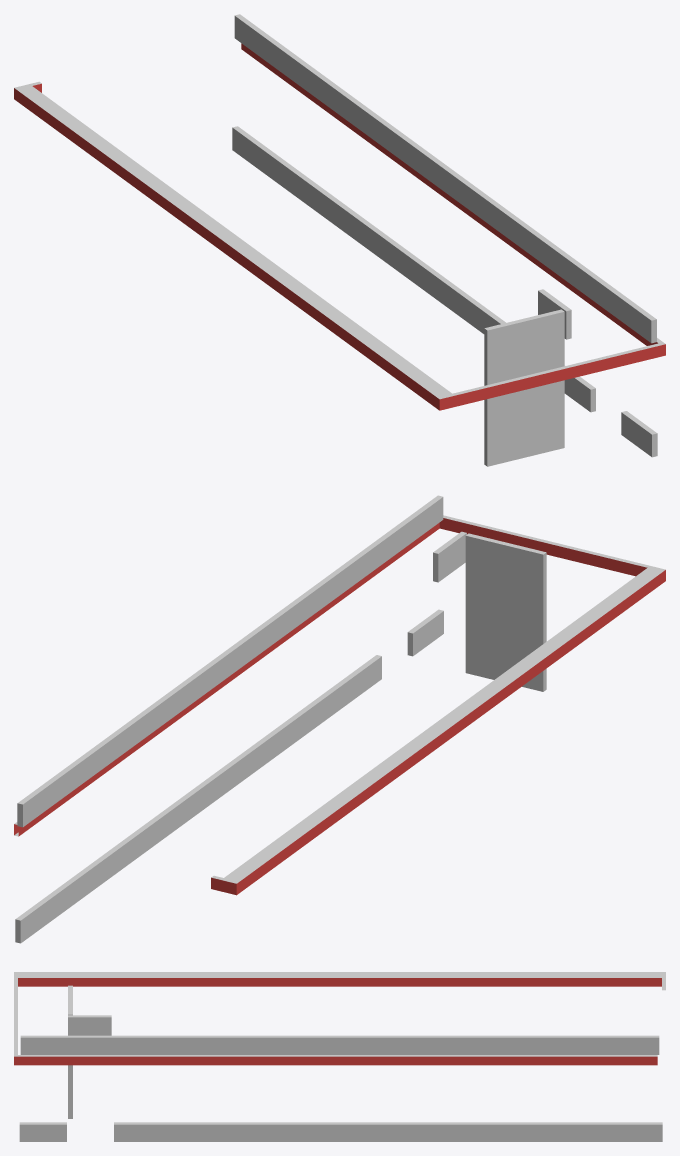
3 views of the same model, one above another, from view 1: azimuth 30°, elevation 25°; view 2: azimuth 150°, elevation 25°; view 3: azimuth 270°, elevation 25° (orthographic). The views are drawn at different scales.
Visible parts, largest first — view 1: Cube.075; view 2: Cube.075; view 3: Cube.075.
Part boxes in pixels (bbox=[...]): Cube.075: bbox=[14, 14, 665, 466]; Cube.075: bbox=[14, 495, 665, 943]; Cube.075: bbox=[14, 972, 665, 1141].
Bounding box in the file's own units: 2086 × 1200 × 6795.
